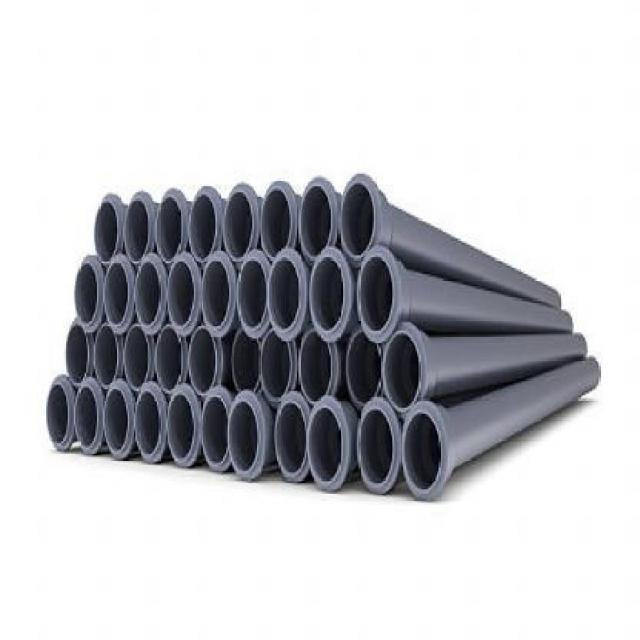pipe: (401, 402, 446, 502), (357, 399, 401, 495), (357, 245, 400, 341), (309, 246, 352, 342), (306, 396, 348, 492), (383, 323, 426, 416), (338, 174, 380, 267), (266, 249, 306, 342), (299, 177, 339, 264), (228, 390, 266, 479), (274, 391, 310, 482), (260, 179, 298, 260), (237, 249, 271, 339), (299, 326, 338, 404), (260, 326, 298, 406), (223, 181, 259, 264), (200, 252, 235, 336), (346, 331, 382, 411), (166, 251, 200, 335), (166, 385, 200, 468), (200, 388, 232, 472), (189, 187, 223, 266), (134, 254, 166, 335), (134, 383, 166, 464), (105, 254, 136, 335), (156, 188, 189, 264), (103, 379, 133, 460), (125, 189, 156, 264), (189, 326, 223, 394), (76, 377, 105, 456), (155, 325, 188, 392), (76, 256, 105, 332), (46, 374, 74, 452), (123, 325, 154, 391), (96, 194, 125, 264), (231, 329, 261, 394), (66, 317, 94, 386), (94, 325, 123, 389)
